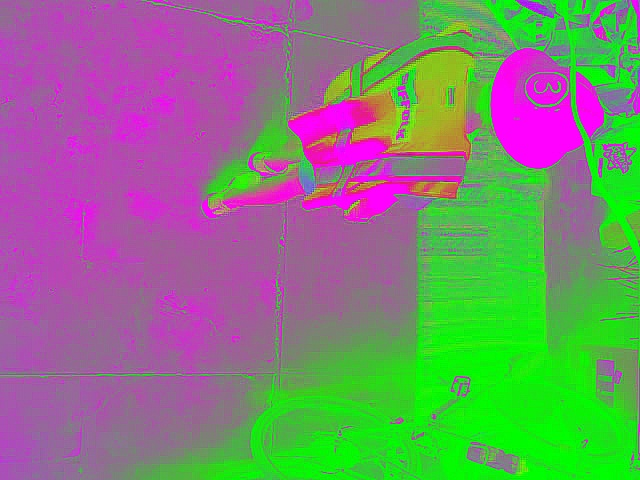three: (524, 72, 567, 107)
